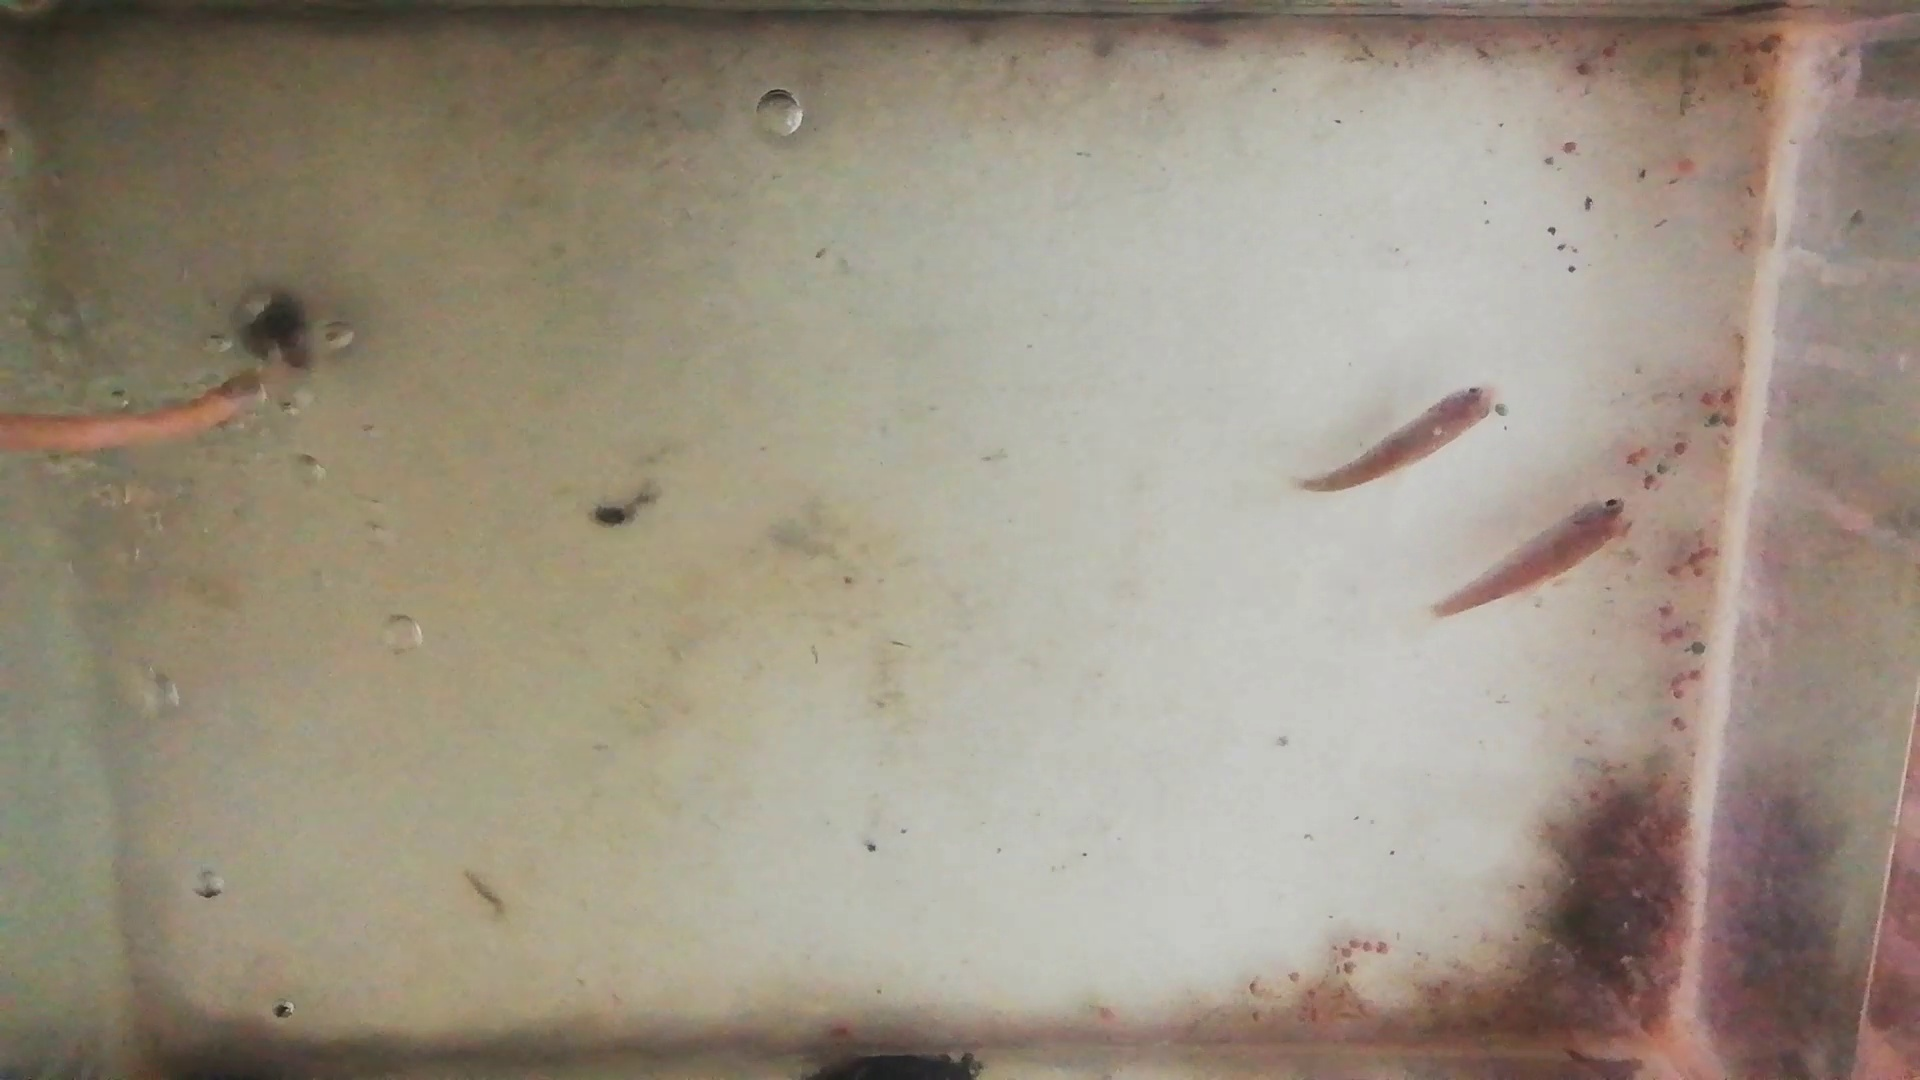fish: (1433, 495, 1633, 615), (1302, 386, 1502, 495)
